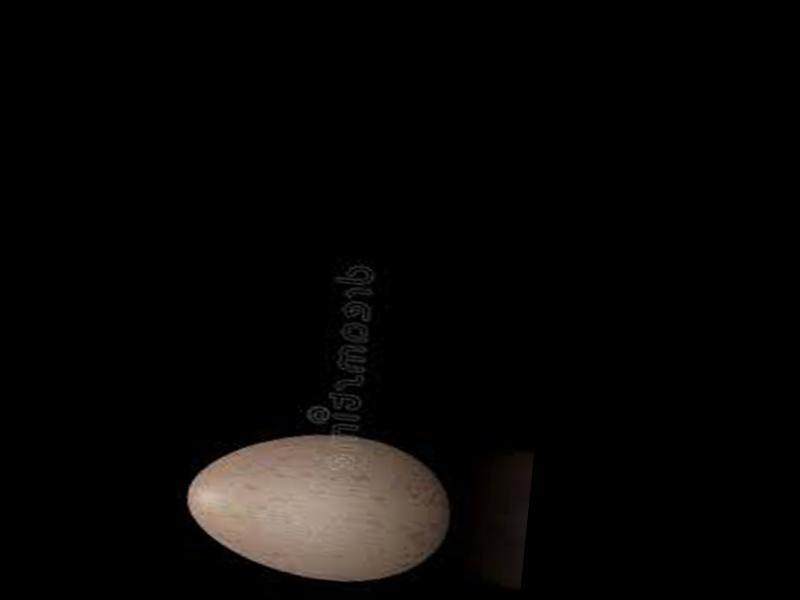Eggs: (178, 422, 457, 591)
